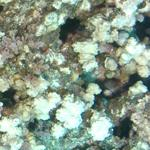alive: (6, 4, 148, 147)
